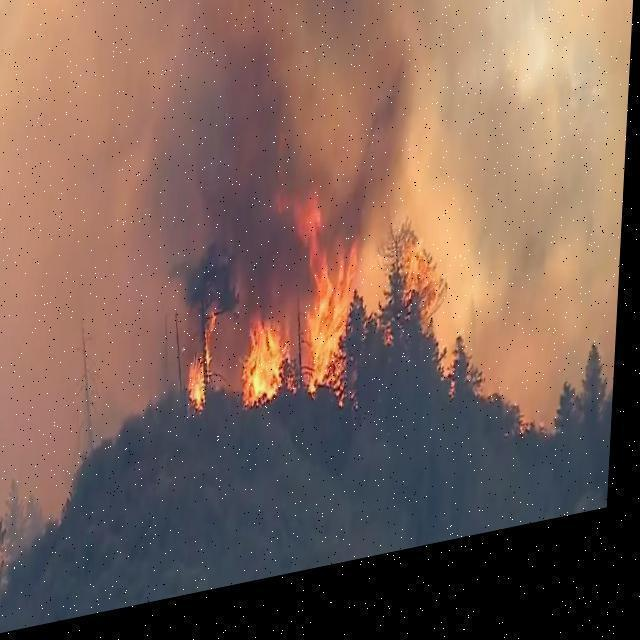Fire: (301, 199, 372, 424), (242, 314, 300, 428), (182, 316, 226, 436)
